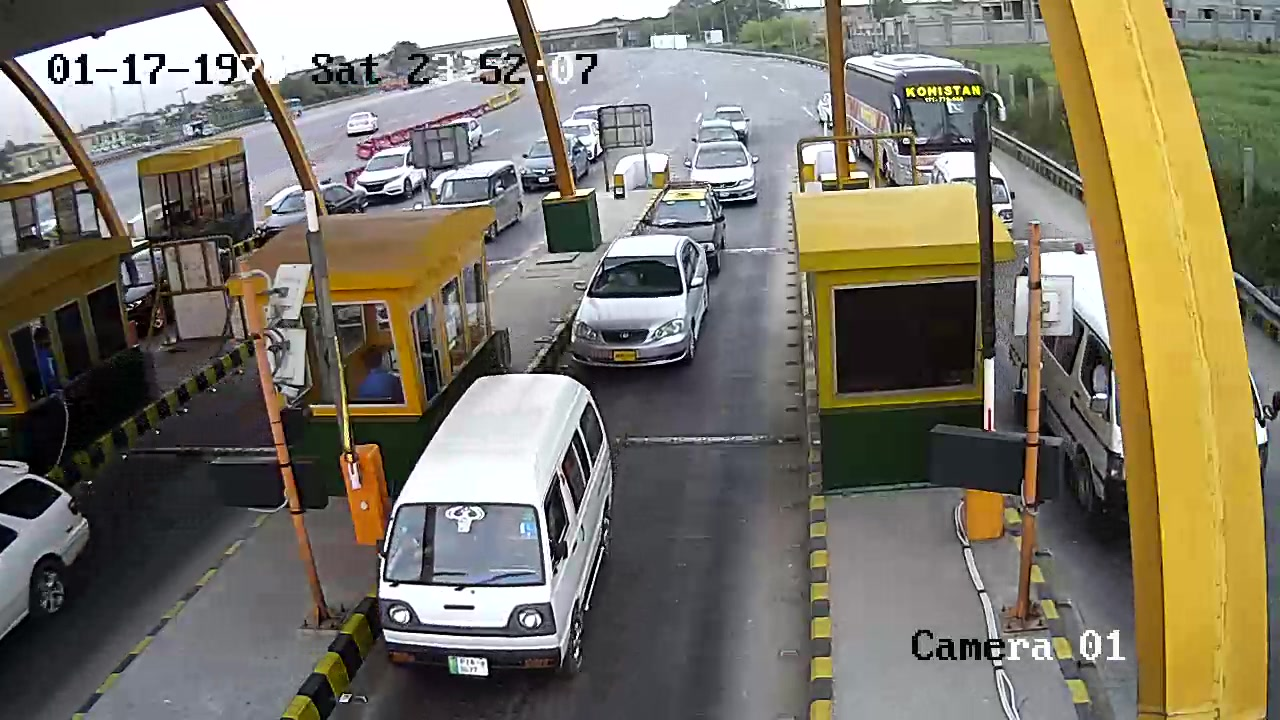F1: (379, 372, 627, 685)
